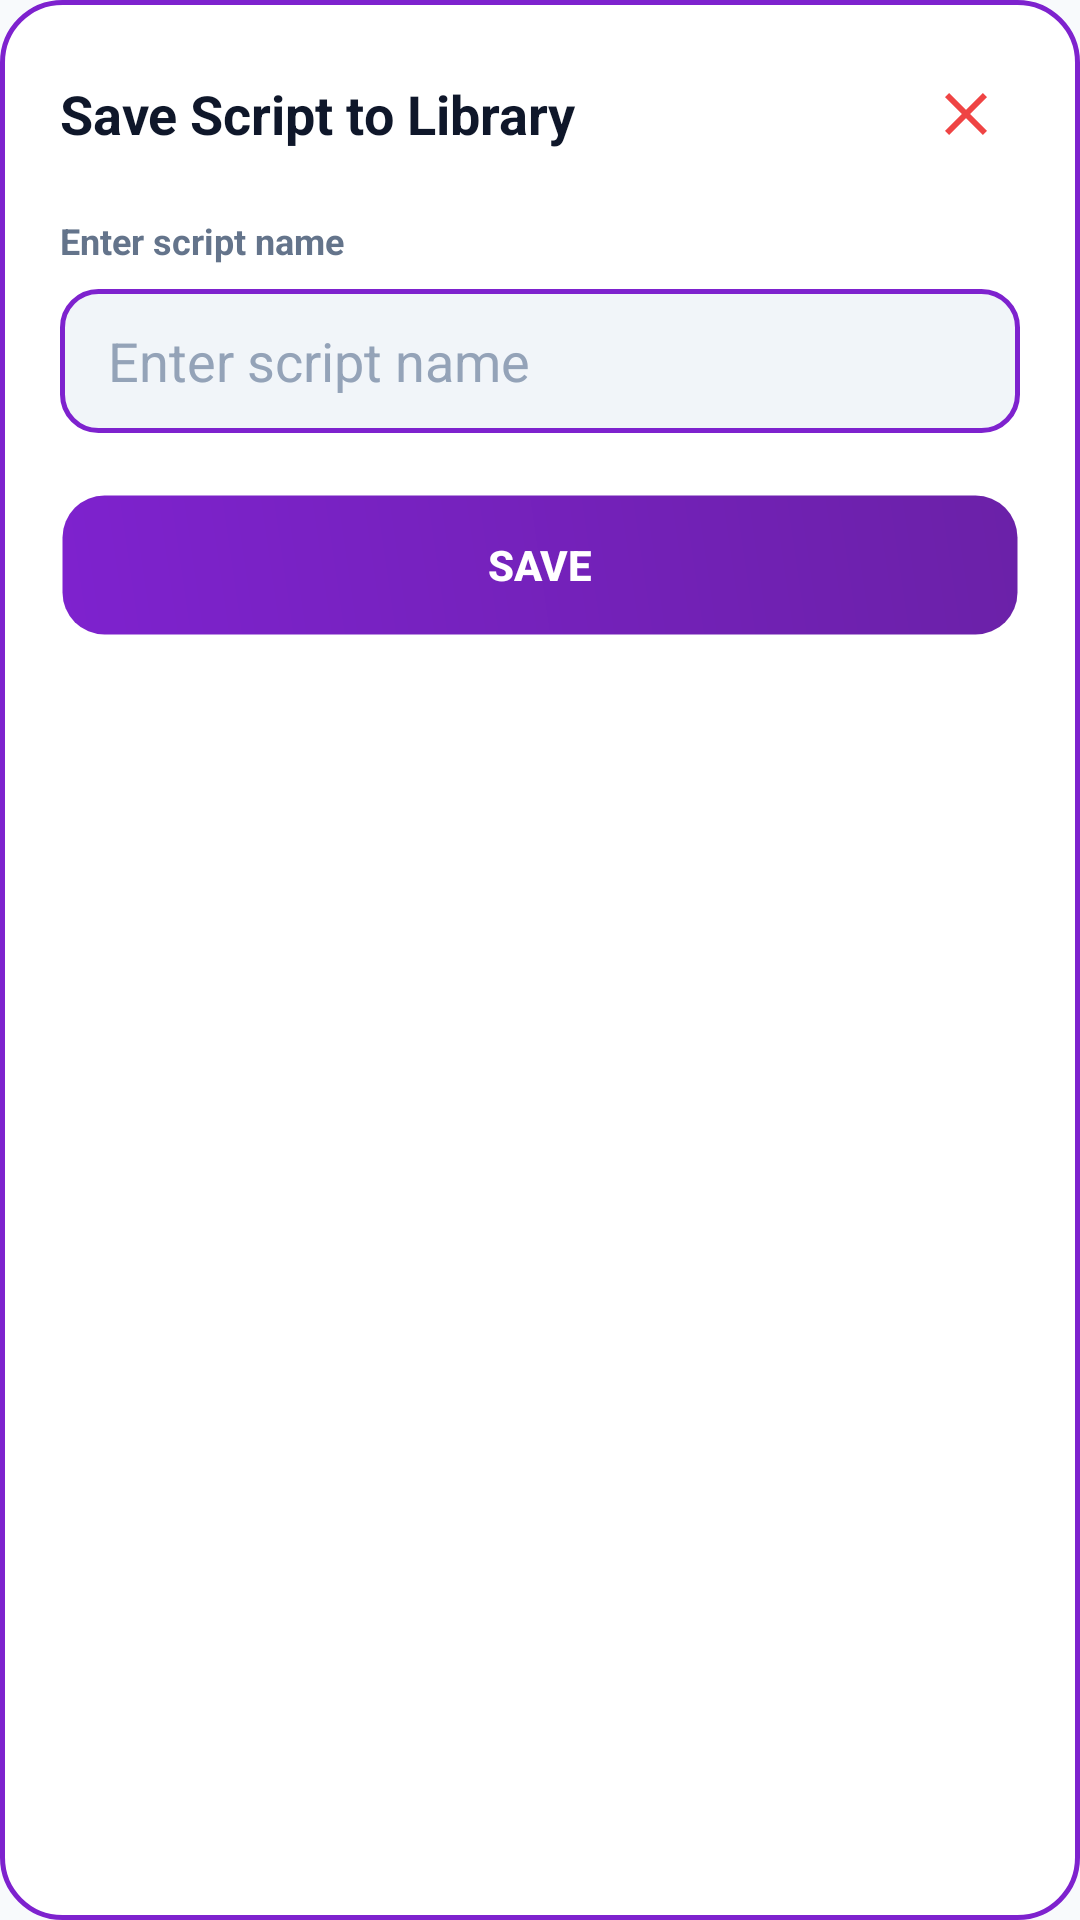

Screen size 1080 x 1920. Icon name, then its box in pixels as (x1, y1, x2, y2):
Close Popup: (945, 93, 987, 135)
